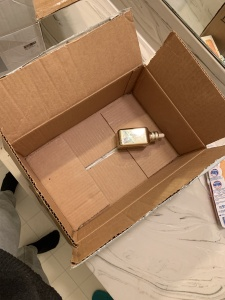innerbox: (33, 84, 187, 194)
outerbox: (3, 8, 225, 243)
product: (117, 126, 166, 147)
